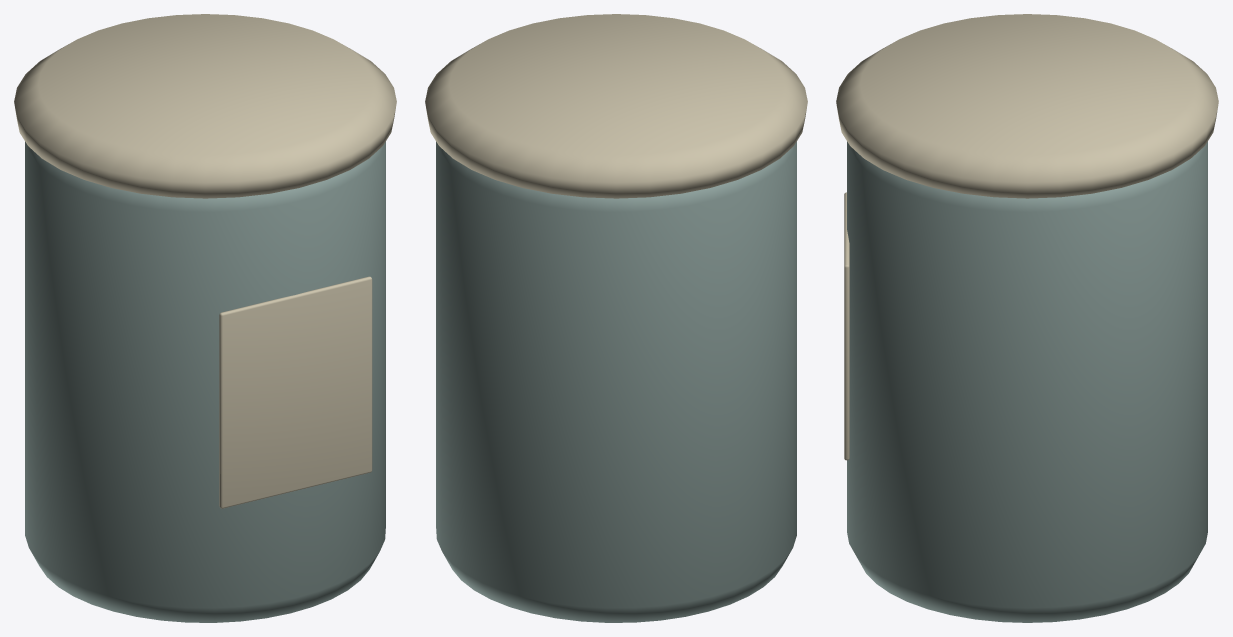
The model's file is coffee_tin.glb.
The picture shows the model from 3 angles, left to right: view 1: azimuth 30°, elevation 25°; view 2: azimuth 150°, elevation 25°; view 3: azimuth 270°, elevation 25°; orthographic projection.
Visible parts, largest first — view 1: coffee_tin__body, coffee_tin__accent; view 2: coffee_tin__body, coffee_tin__accent; view 3: coffee_tin__body, coffee_tin__accent.
Part boxes in pixels (x1,y1,x2,y2): coffee_tin__body: (25, 141, 385, 622); coffee_tin__accent: (14, 14, 396, 508); coffee_tin__body: (436, 141, 796, 622); coffee_tin__accent: (425, 14, 807, 198); coffee_tin__body: (847, 141, 1207, 622); coffee_tin__accent: (836, 14, 1218, 460).
Bounding box in the file's own units: 0.142 × 0.191 × 0.142.
